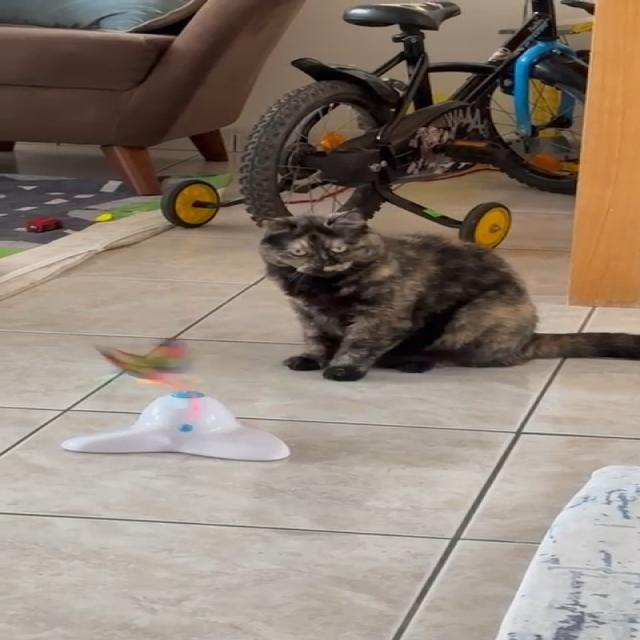authorized: (256, 209, 639, 381)
